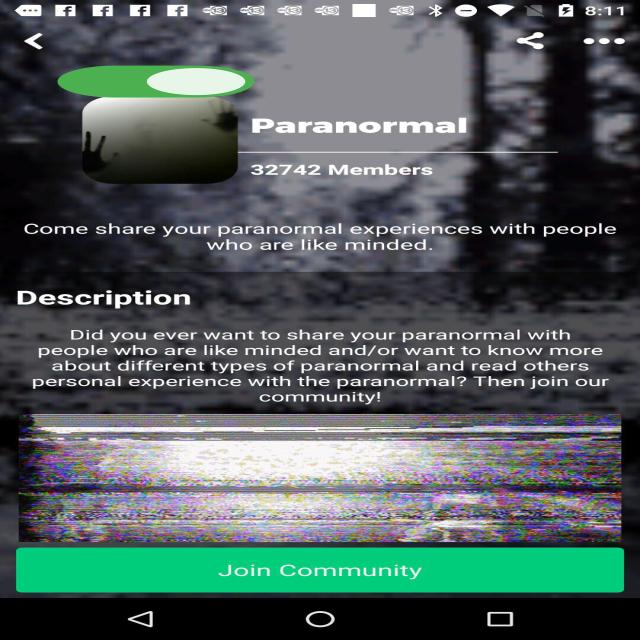social proof: (49, 54, 263, 112)
